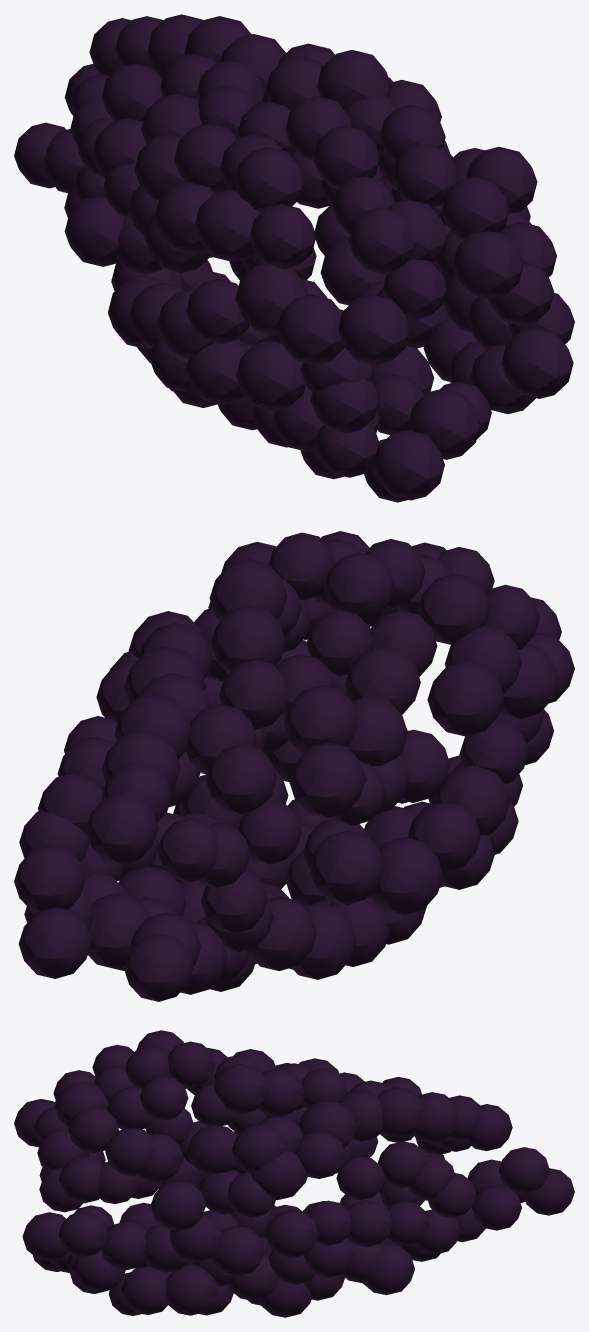
The model's file is berries.obj.
3 views of the same model, one above another, from view 1: azimuth 30°, elevation 25°; view 2: azimuth 150°, elevation 25°; view 3: azimuth 270°, elevation 25° (orthographic). The views are drawn at different scales.
Visible parts, largest first — view 1: berries; view 2: berries; view 3: berries.
Part boxes in pixels (box(x1,y1,x2,y2)): berries: box(14, 14, 574, 502); berries: box(14, 531, 574, 1001); berries: box(14, 1030, 574, 1317).
Size of the model in its own units: 0.0982 by 0.1002 by 0.199.
